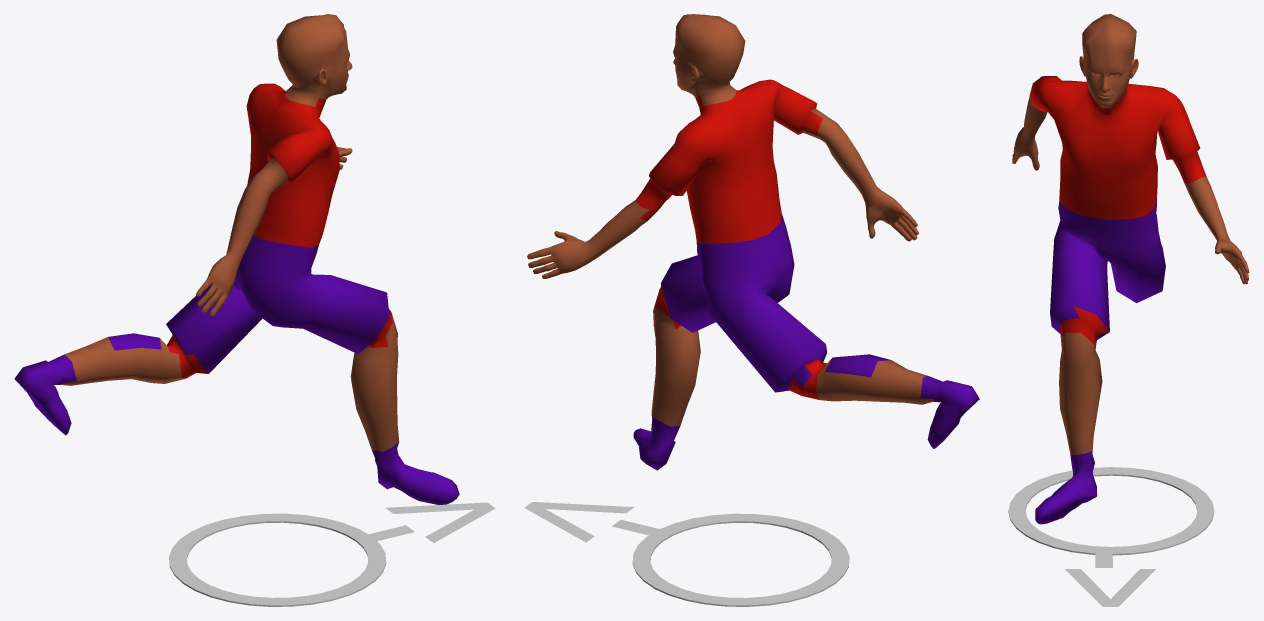
File: player_000016.obj
3 renders of one model, left to right at view 1: azimuth 30°, elevation 25°; view 2: azimuth 150°, elevation 25°; view 3: azimuth 270°, elevation 25°, orthographic. The views are drawn at different scales.
Parts seen in each view (by area): view 1: soccerplayer.002_mesh.003, Circle, Text.001_Mesh.001; view 2: soccerplayer.002_mesh.003, Circle, Text.001_Mesh.001; view 3: soccerplayer.002_mesh.003, Circle, Text.001_Mesh.001.
Part boxes in pixels (box(x1,y1,x2,y2)): soccerplayer.002_mesh.003: box(14, 14, 459, 504); Circle: box(169, 513, 386, 606); Text.001_Mesh.001: box(364, 502, 495, 542); soccerplayer.002_mesh.003: box(527, 14, 979, 470); Circle: box(632, 513, 849, 606); Text.001_Mesh.001: box(524, 502, 662, 542); soccerplayer.002_mesh.003: box(1012, 14, 1249, 524); Circle: box(1008, 467, 1214, 555); Text.001_Mesh.001: box(1065, 548, 1155, 606).
Size of the model in its own units: 2.65 by 2.95 by 1.27.
